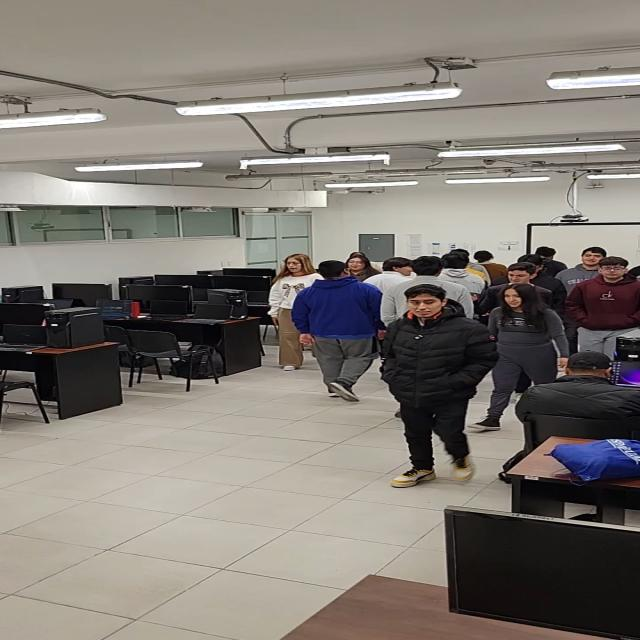Persona: (378, 284, 499, 488), (468, 282, 570, 441), (290, 259, 385, 403), (561, 256, 640, 360), (269, 254, 335, 372), (381, 250, 475, 330), (481, 262, 553, 305), (429, 251, 489, 296), (556, 245, 611, 294), (362, 257, 416, 287)
